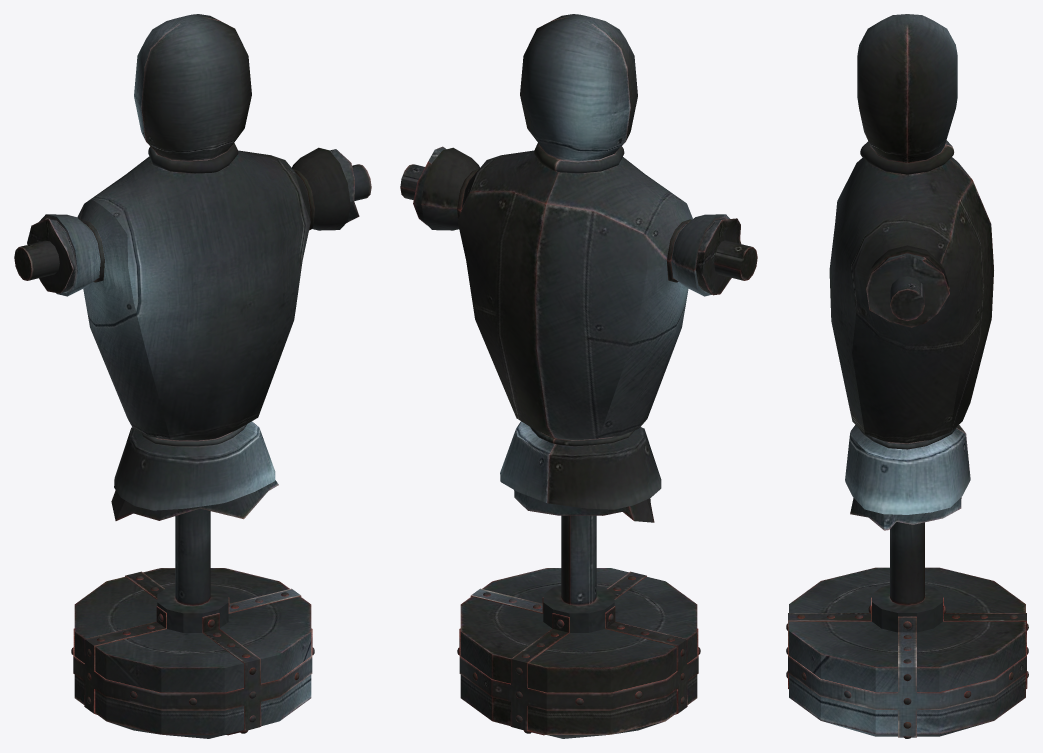
3 views of the same model, side by side, from view 1: azimuth 30°, elevation 25°; view 2: azimuth 150°, elevation 25°; view 3: azimuth 270°, elevation 25° (orthographic).
Visible parts, largest first — view 1: dummy_0; view 2: dummy_0; view 3: dummy_0.
Boxes of the visible parts, left/top/right/bottom form: dummy_0: left=14, top=14, right=371, bottom=738; dummy_0: left=400, top=14, right=757, bottom=738; dummy_0: left=786, top=14, right=1028, bottom=738.
Bounding box in the file's own units: 2.24 × 4.42 × 1.39.
1 material, 1 textured.
